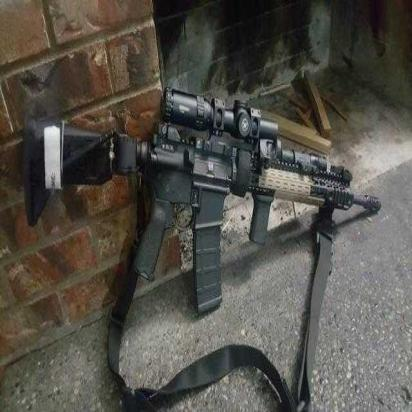Gun: (15, 64, 394, 340)
